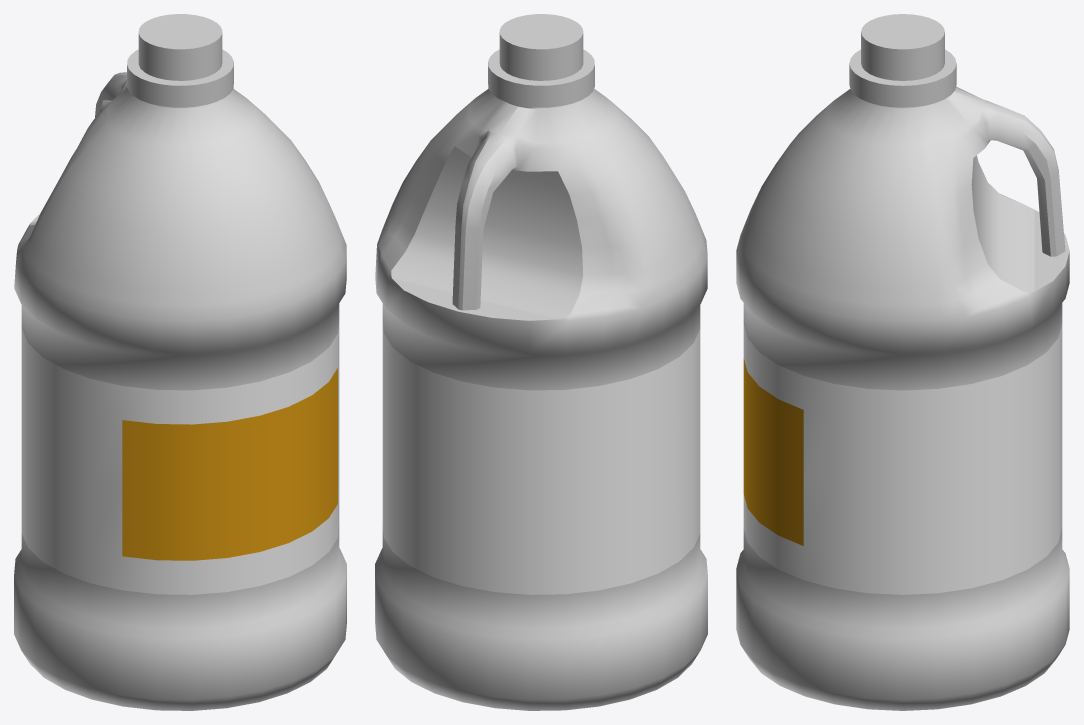
File: chemical bottle container - orange.fbx
The picture shows the model from 3 angles, left to right: view 1: azimuth 30°, elevation 25°; view 2: azimuth 150°, elevation 25°; view 3: azimuth 270°, elevation 25°; orthographic projection.
Parts seen in each view (by area): view 1: 柱体, 柱体.001, orange; view 2: 柱体, 柱体.001; view 3: 柱体, 柱体.001, orange.
Part boxes in pixels (left/top/right/bottom): 柱体: left=14, top=14, right=346, bottom=710; 柱体.001: left=21, top=322, right=339, bottom=594; orange: left=122, top=368, right=337, bottom=560; 柱体: left=375, top=14, right=707, bottom=710; 柱体.001: left=382, top=322, right=700, bottom=594; 柱体: left=736, top=14, right=1069, bottom=710; 柱体.001: left=743, top=324, right=1062, bottom=594; orange: left=743, top=358, right=803, bottom=545.
Size of the model in its own units: 308 by 632 by 308.
